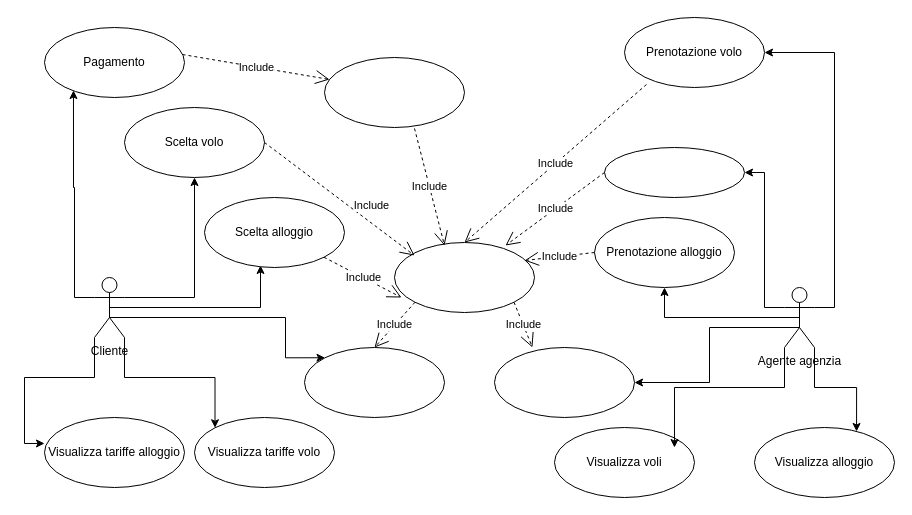
This 912x515 diagram has some shape labels left out. The shapes that lost their labels are listed below. From the top down, each one's box as (x1, y1, x2, y2) in pixels, then its label:
(324, 56, 464, 128): Inserimento carta di credito
(604, 146, 744, 198): Cambio tariffe
(394, 242, 534, 312): Login
(304, 346, 444, 418): Registrazione utente
(494, 346, 634, 418): Registrazione admin
